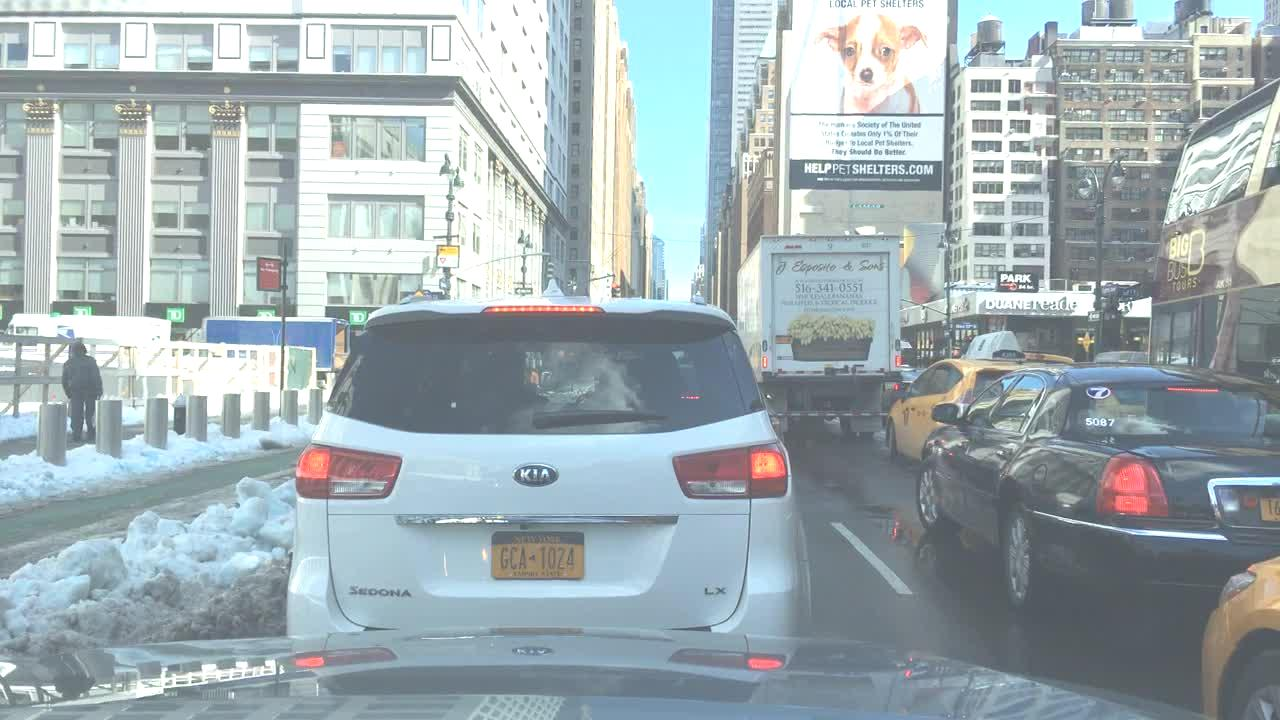kia: (503, 453, 572, 494)
